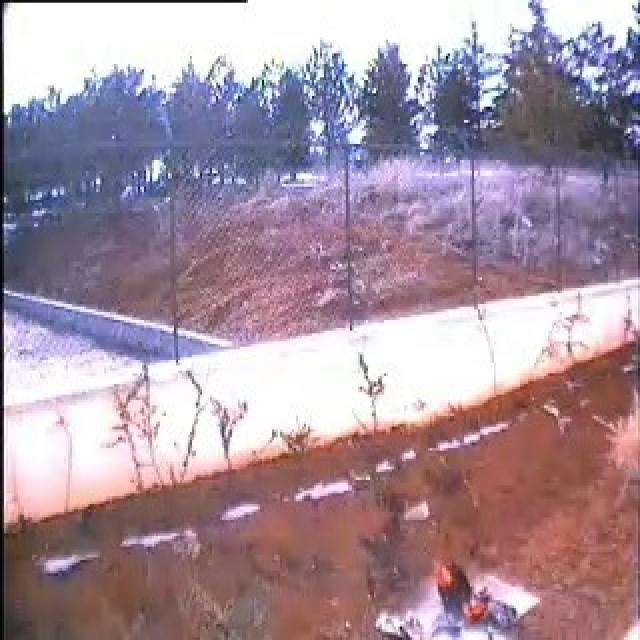fire: (426, 553, 489, 621)
